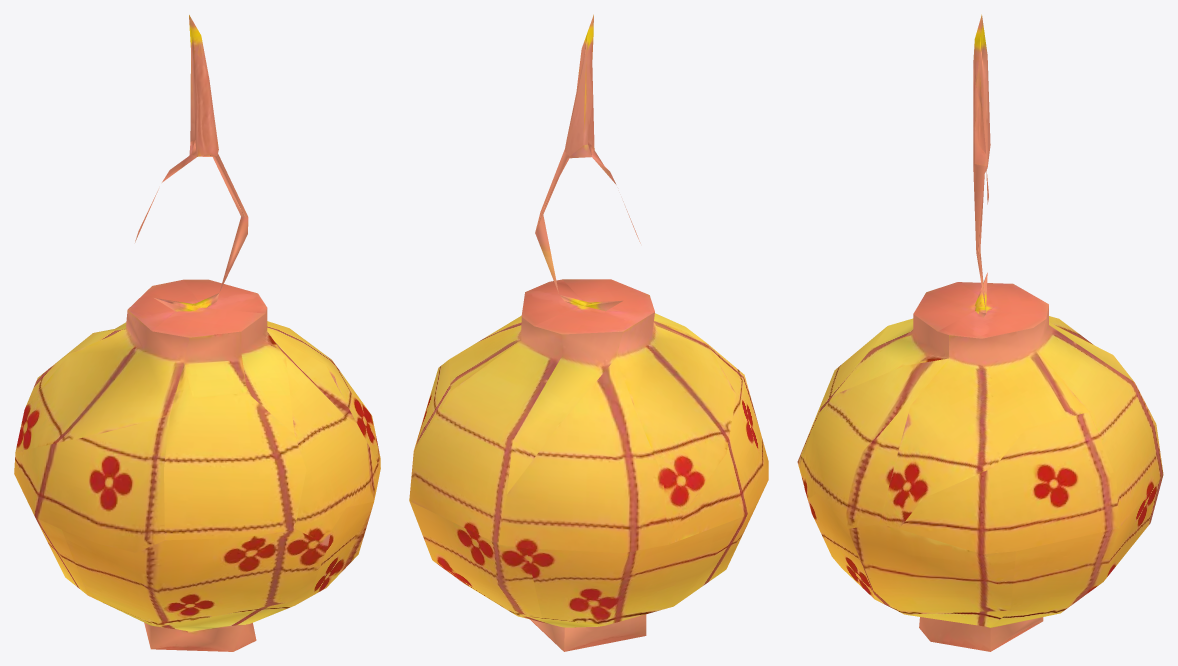
Rendered from s1_gen_lantern.glb.
3 views of the same model, side by side, from view 1: azimuth 30°, elevation 25°; view 2: azimuth 150°, elevation 25°; view 3: azimuth 270°, elevation 25° (orthographic).
Size of the model in its own units: 1.01 by 1.84 by 1.
Materials: 1 (1 with a texture image).
